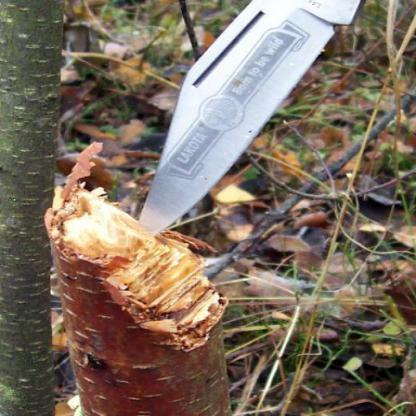knife: (123, 0, 415, 237)
